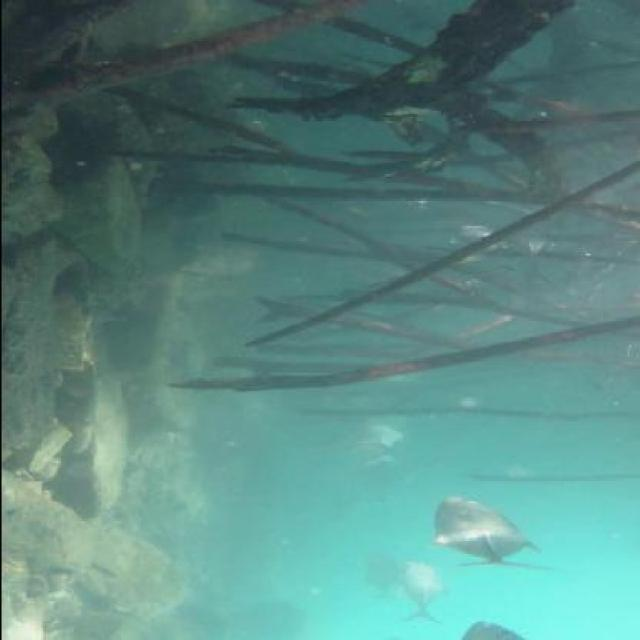Caranx_sexfasciatus_juvenile: (418, 494, 558, 572), (438, 218, 518, 264), (393, 566, 452, 622), (507, 212, 573, 260), (334, 442, 404, 481), (358, 552, 405, 602), (350, 418, 413, 452), (456, 617, 530, 640)
